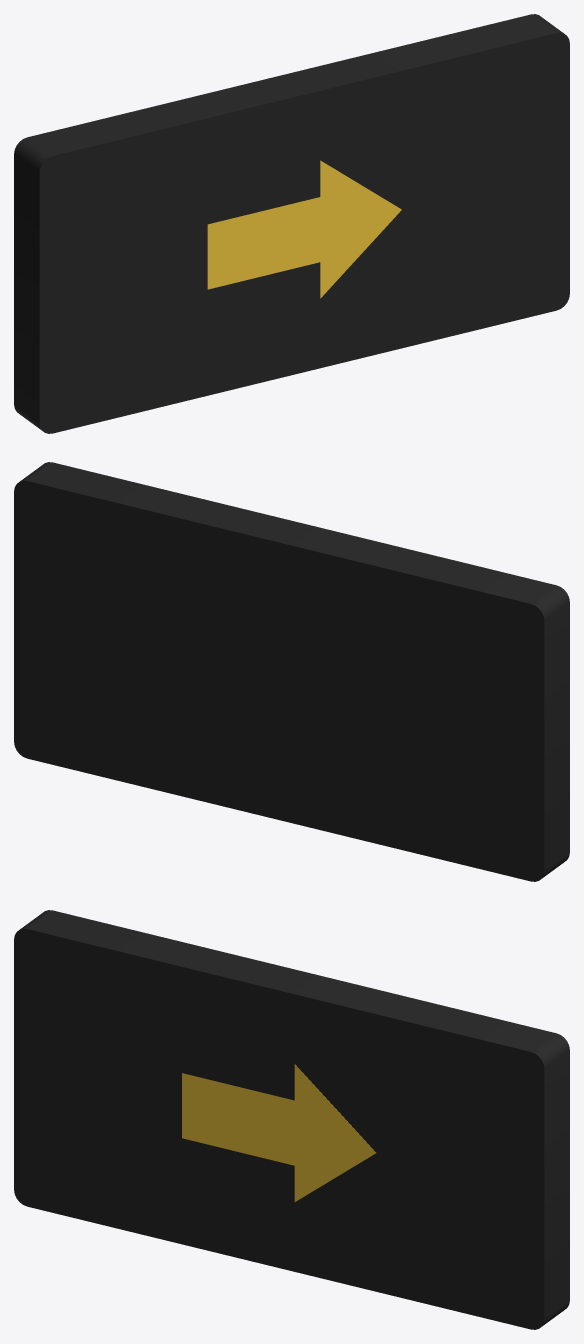
The picture shows the model from 3 angles, top to bottom: view 1: azimuth 30°, elevation 25°; view 2: azimuth 150°, elevation 25°; view 3: azimuth 330°, elevation 25°; orthographic projection.
Parts seen in each view (by area): view 1: KR42_r00, KR42_s250; view 2: KR42_r00; view 3: KR42_r00, KR42_s250.
Boxes of the visible parts, x1,y1,x2,y2 form: KR42_r00: (14, 14, 569, 433); KR42_s250: (207, 160, 401, 298); KR42_r00: (14, 462, 569, 881); KR42_r00: (14, 910, 569, 1329); KR42_s250: (182, 1064, 375, 1201).
Size of the model in its own units: 1.2 by 0.6 by 0.1004.
